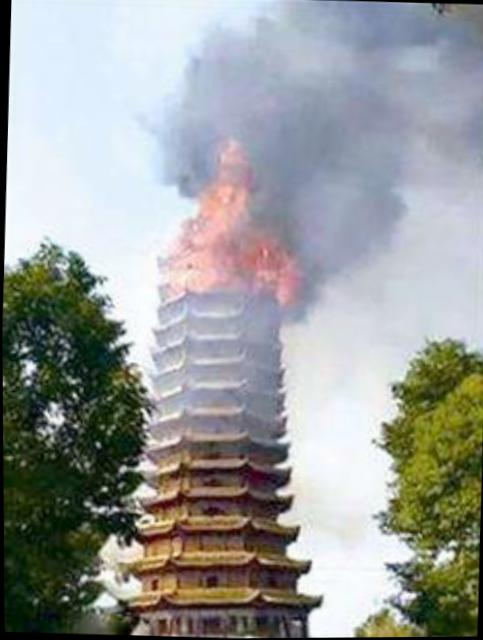fire: (155, 137, 316, 304)
